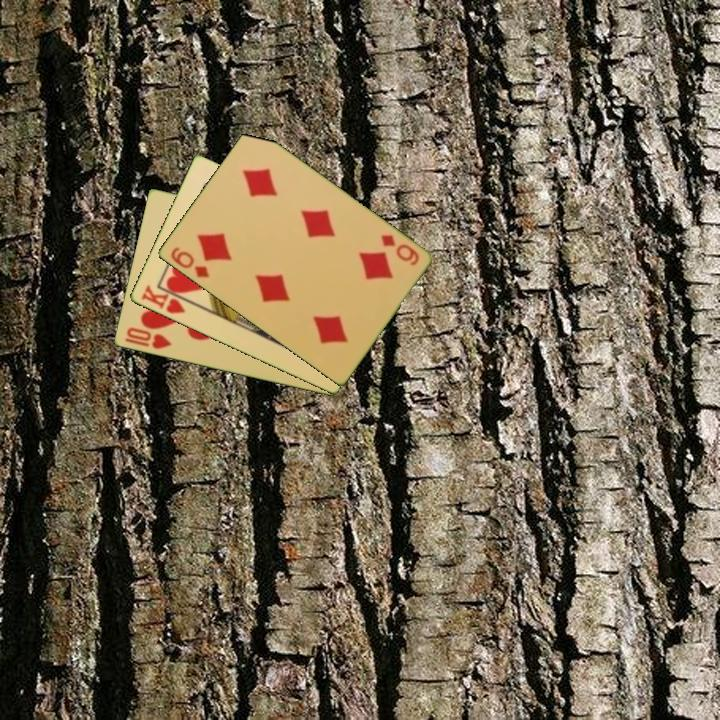10h: (121, 324, 174, 352)
6d: (377, 231, 422, 269), (167, 244, 212, 281)
Kh: (137, 282, 194, 317)
